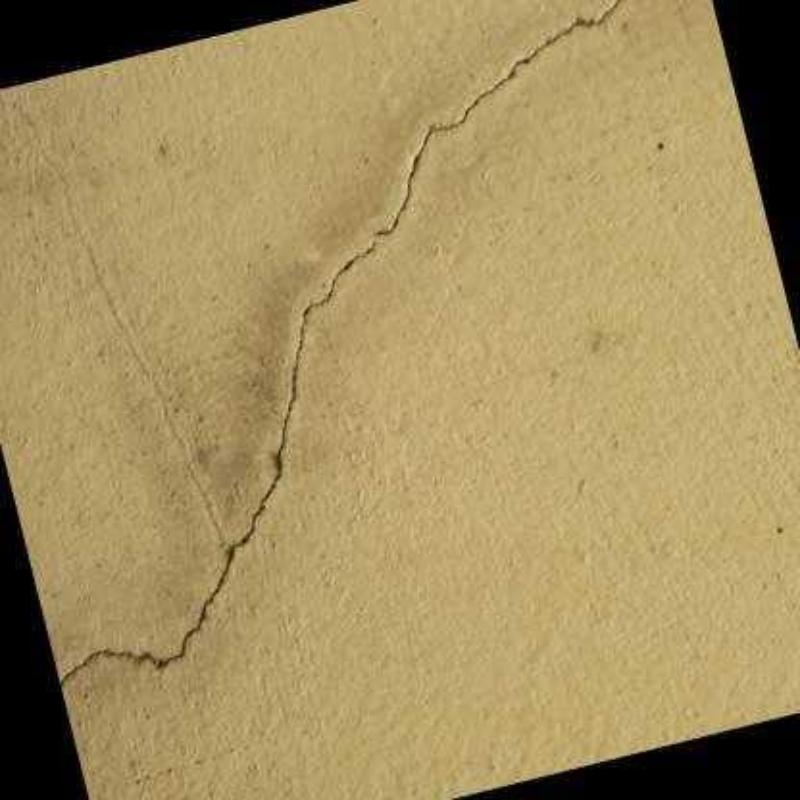pothole: (61, 1, 623, 689)
